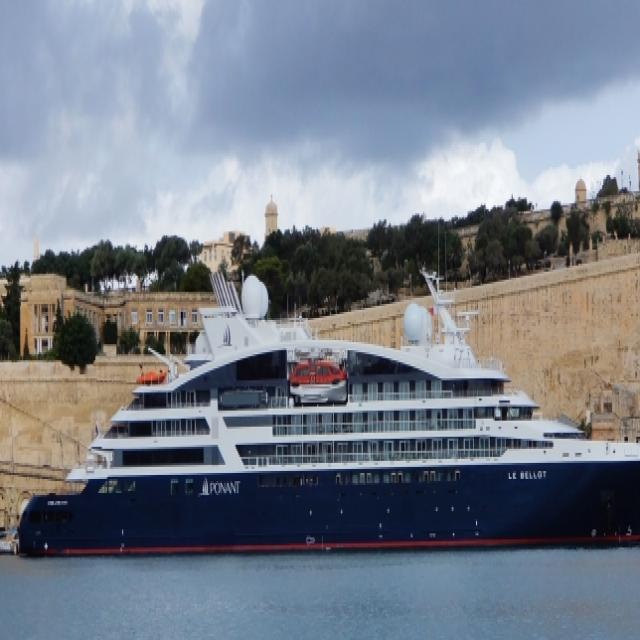cruises: (13, 261, 640, 571)
